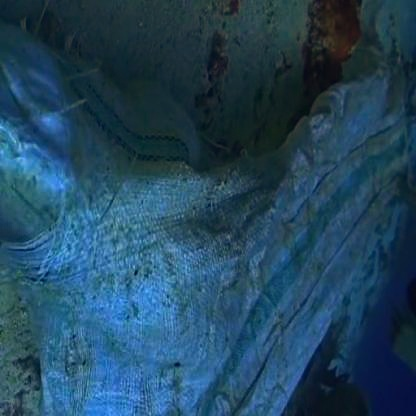plastic: (66, 110, 416, 294)
